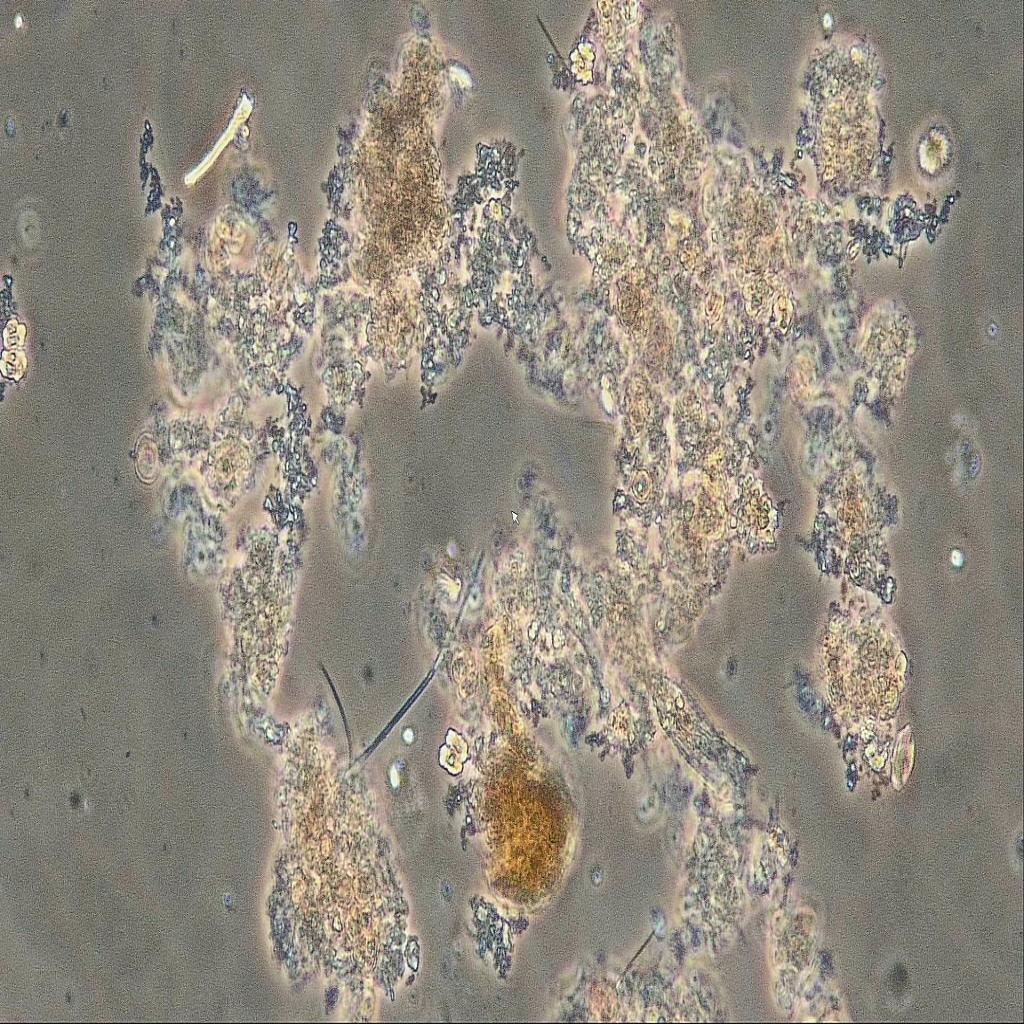Aspidisca: (873, 717, 934, 798)
